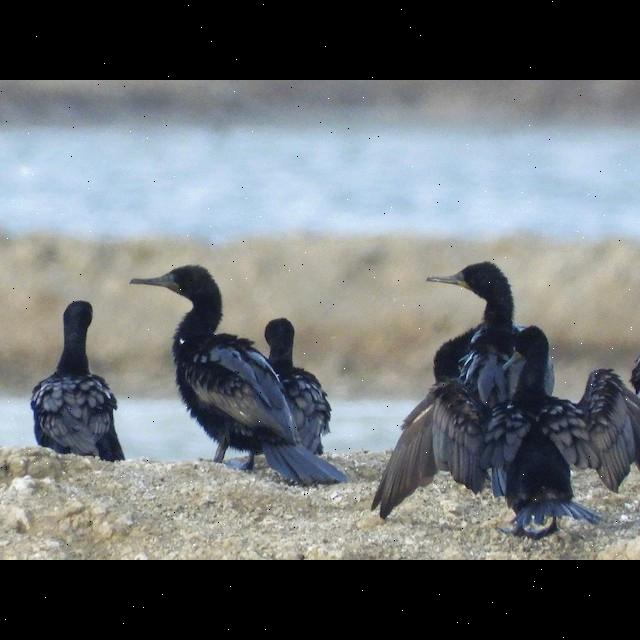cormorant: (121, 256, 332, 492), (29, 296, 131, 462)
